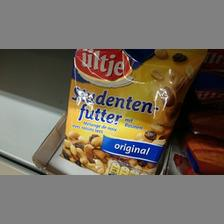Nuss: (60, 48, 204, 174)
